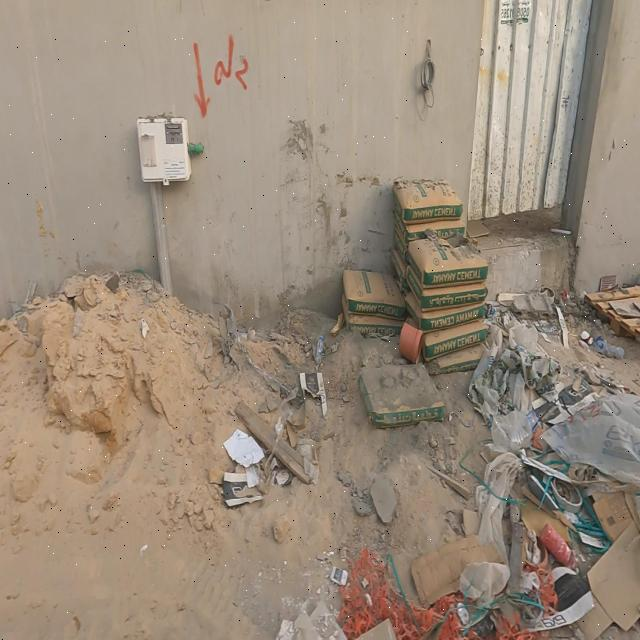Graffiti: (193, 36, 249, 117)
